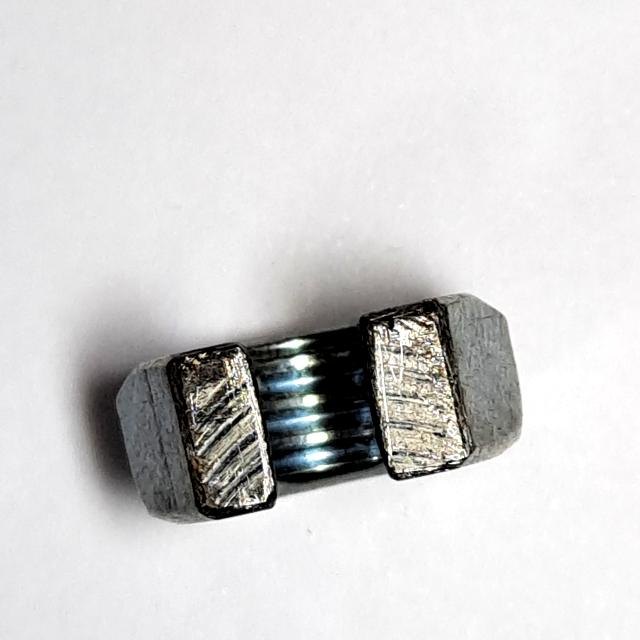Side-Fracture: (102, 284, 528, 533)
